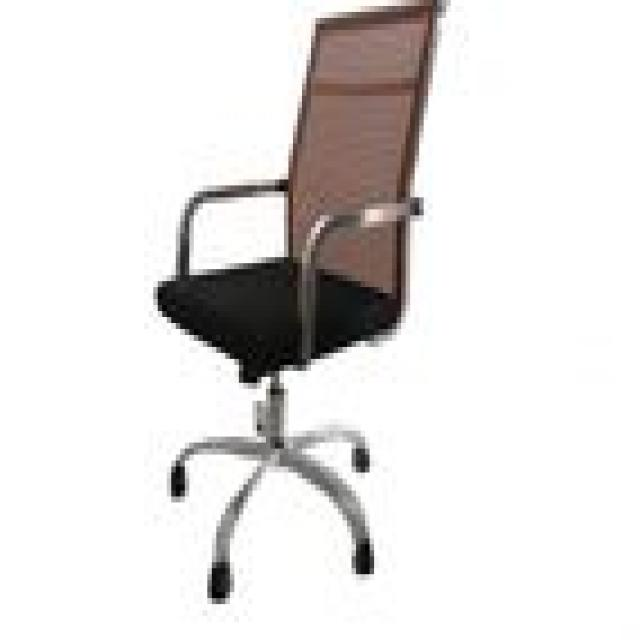others: (144, 6, 473, 604)
